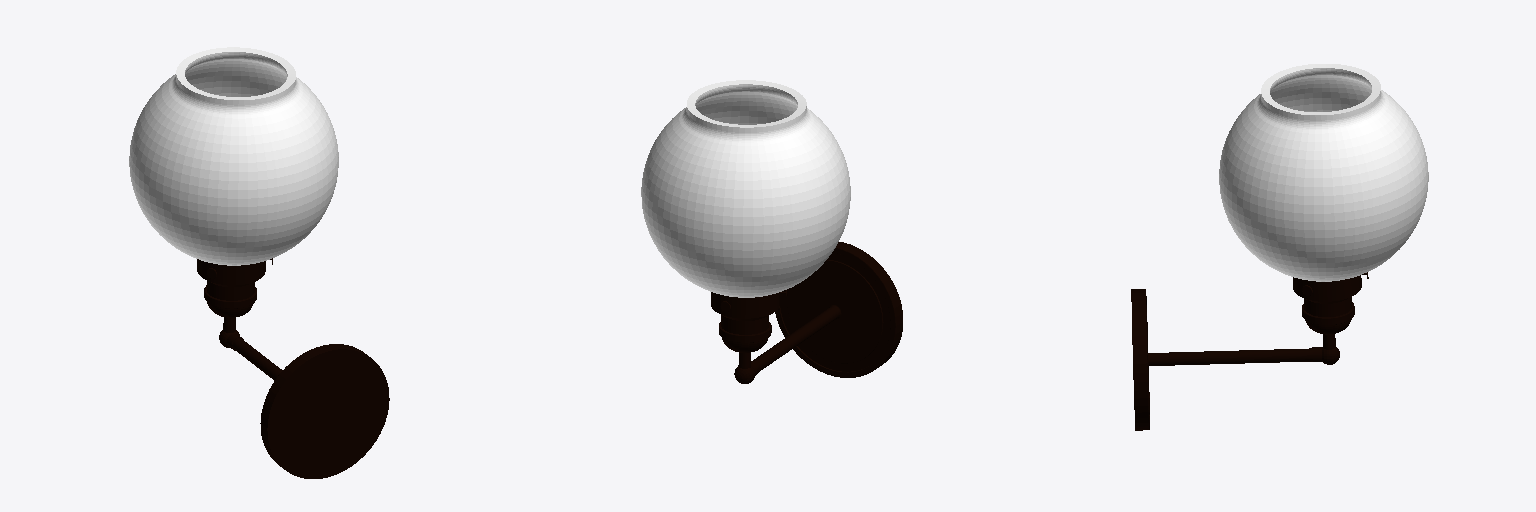
Rendered from Luz.obj.
3 views of the same model, side by side, from view 1: azimuth 30°, elevation 25°; view 2: azimuth 150°, elevation 25°; view 3: azimuth 270°, elevation 25° (orthographic).
Parts seen in each view (by area): view 1: бра_virgin_glass.001; view 2: бра_virgin_glass.001; view 3: бра_virgin_glass.001.
Boxes of the visible parts, box(x1,y1,x2,y2) form: бра_virgin_glass.001: box(129, 47, 389, 478); бра_virgin_glass.001: box(641, 80, 902, 383); бра_virgin_glass.001: box(1131, 64, 1428, 430).
Size of the model in its own units: 0.2 by 0.3549 by 0.2836.